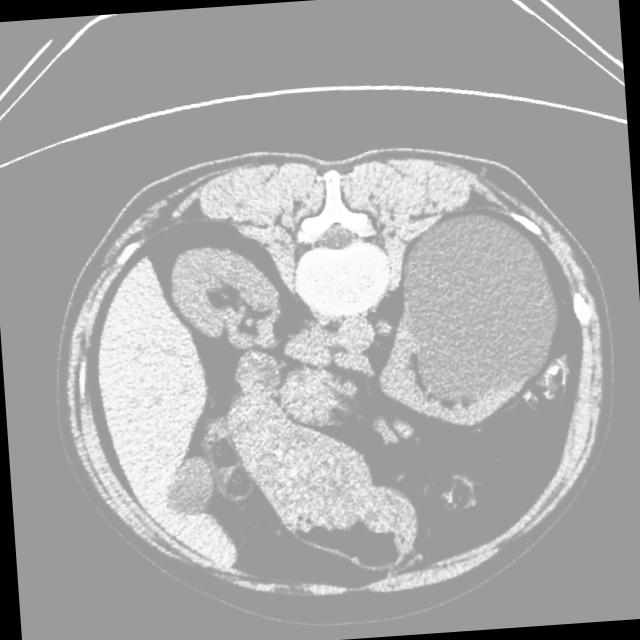cysts: (47, 132, 620, 619)
